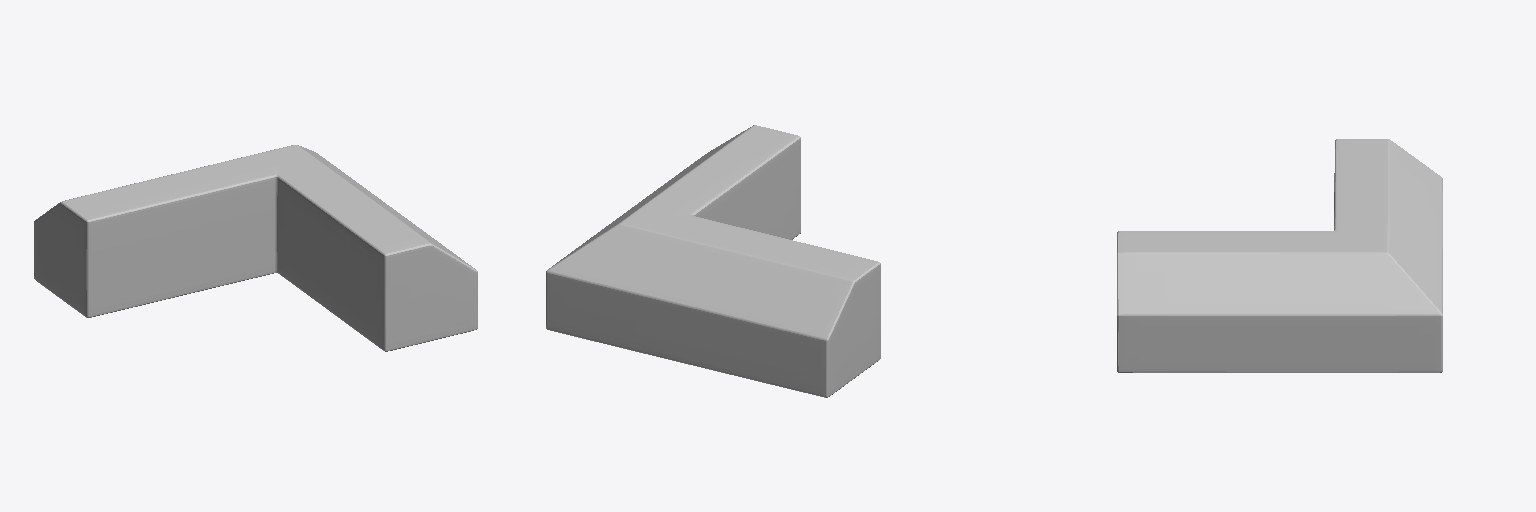
Rendered from InsideCorner_HP(1).obj.
3 renders of one model, left to right at view 1: azimuth 30°, elevation 25°; view 2: azimuth 150°, elevation 25°; view 3: azimuth 270°, elevation 25°, orthographic.
Parts seen in each view (by area): view 1: Inside_Corner; view 2: Inside_Corner; view 3: Inside_Corner.
Part boxes in pixels (x1,y1,x2,y2): Inside_Corner: (34,145,477,351); Inside_Corner: (546,125,880,397); Inside_Corner: (1117,139,1442,372).
Size of the model in its own units: 3 by 0.9999 by 3.